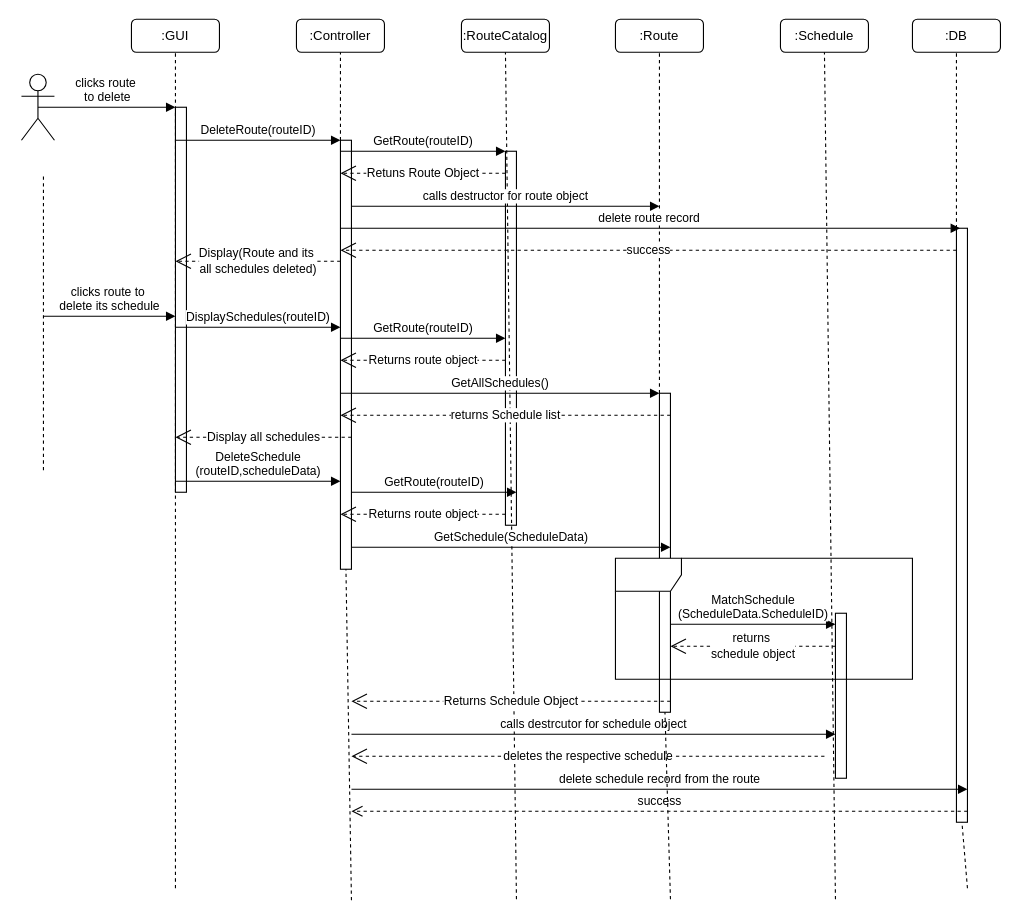
This 1020x921 diagram has some shape labels left out. The centre of each missing label's shape, as x and y in pixels:
Admin: pixel 37 106
for each Query: pixel 763 618
